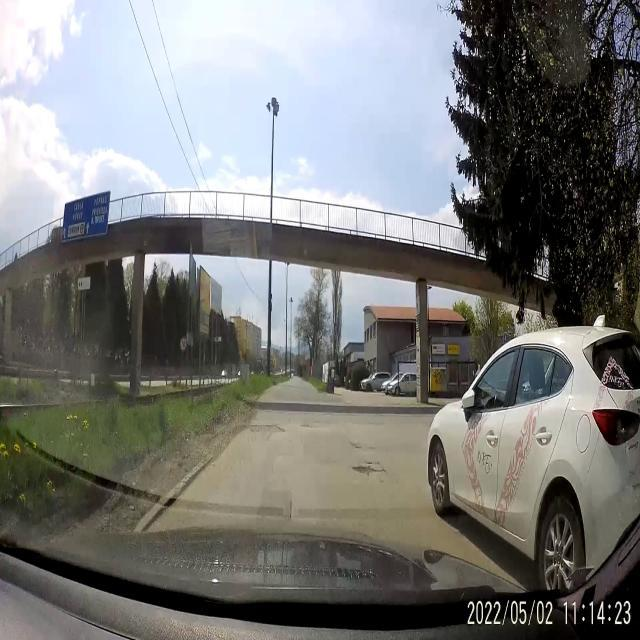Pothole: (352, 454, 392, 482), (241, 418, 286, 441), (342, 434, 372, 460), (296, 417, 318, 433)
